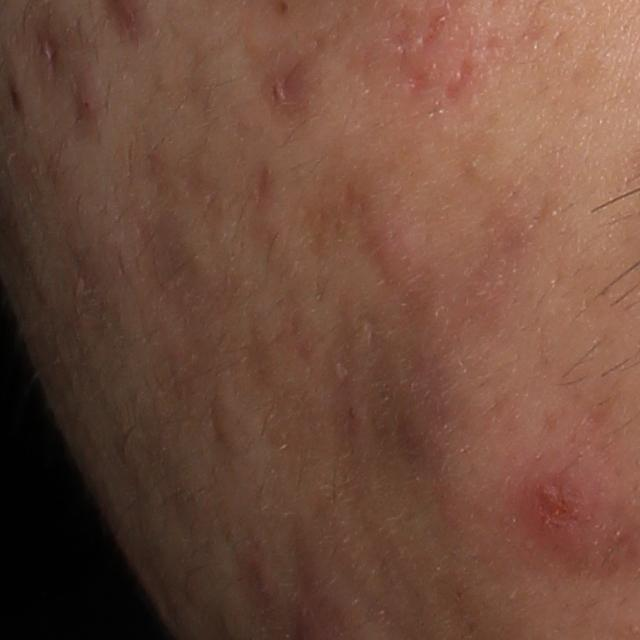atrophic_scar: (257, 47, 327, 122), (436, 53, 487, 111), (27, 11, 64, 82)
papule: (359, 206, 423, 285), (75, 76, 100, 122)
